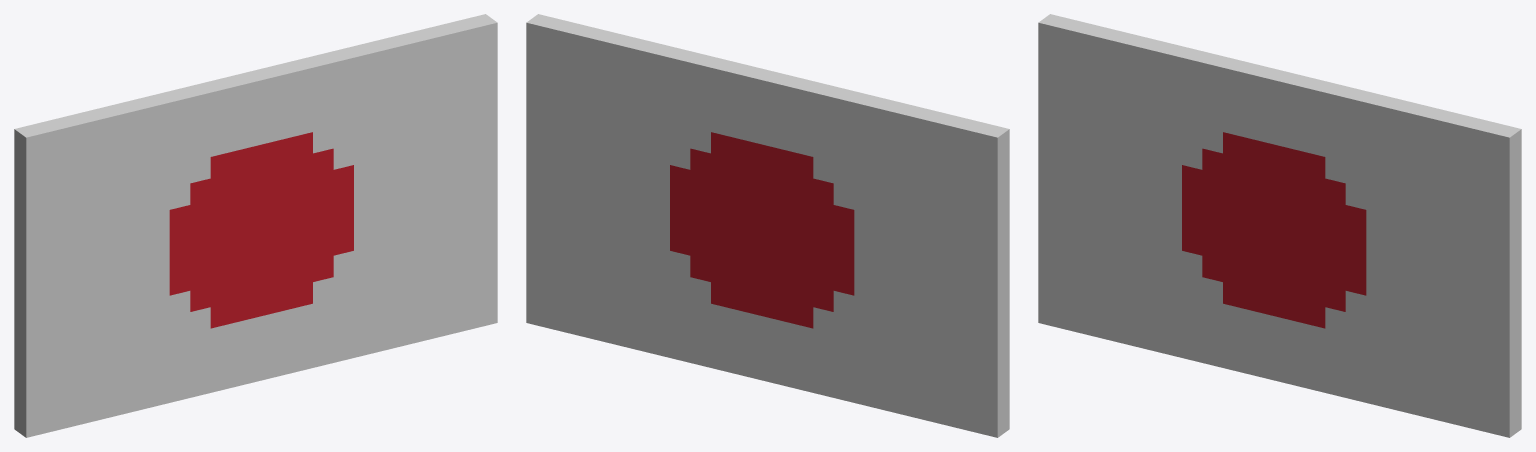
Rendered from japan_flag.glb.
3 renders of one model, left to right at view 1: azimuth 30°, elevation 25°; view 2: azimuth 150°, elevation 25°; view 3: azimuth 330°, elevation 25°, orthographic.
Visible parts, largest first — view 1: model; view 2: model; view 3: model.
Part boxes in pixels (bbox=[...]): model: bbox=[14, 14, 497, 437]; model: bbox=[526, 14, 1009, 437]; model: bbox=[1038, 14, 1521, 437].
Bounding box in the file's own units: 2.3 × 1.4 × 0.1.
